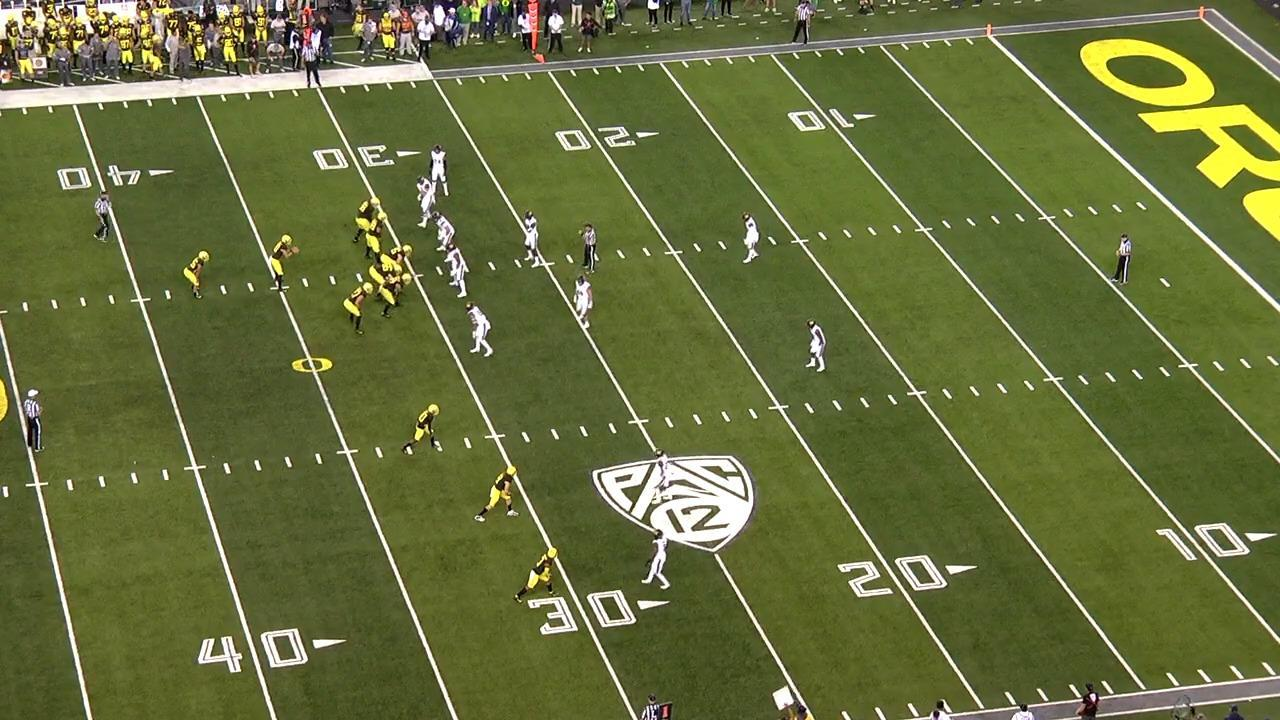player: (474, 465, 522, 530), (517, 547, 565, 606), (404, 401, 445, 459), (640, 527, 673, 594), (267, 232, 301, 297), (468, 303, 499, 361), (439, 244, 470, 301), (523, 207, 551, 270), (343, 282, 373, 338), (352, 195, 383, 248), (646, 449, 674, 507), (378, 272, 412, 319), (185, 249, 213, 303), (807, 317, 832, 374), (426, 142, 451, 198), (570, 277, 594, 335), (361, 213, 387, 266), (737, 212, 761, 268), (415, 177, 439, 230), (431, 211, 458, 256), (370, 263, 405, 296), (381, 244, 413, 265)
ref: (18, 385, 44, 455), (579, 219, 601, 277), (1112, 232, 1135, 286), (90, 188, 112, 242), (789, 0, 813, 47), (635, 691, 672, 720), (300, 40, 321, 91)
